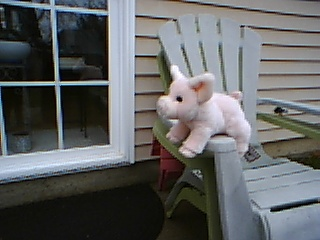piggy: (155, 64, 254, 160)
